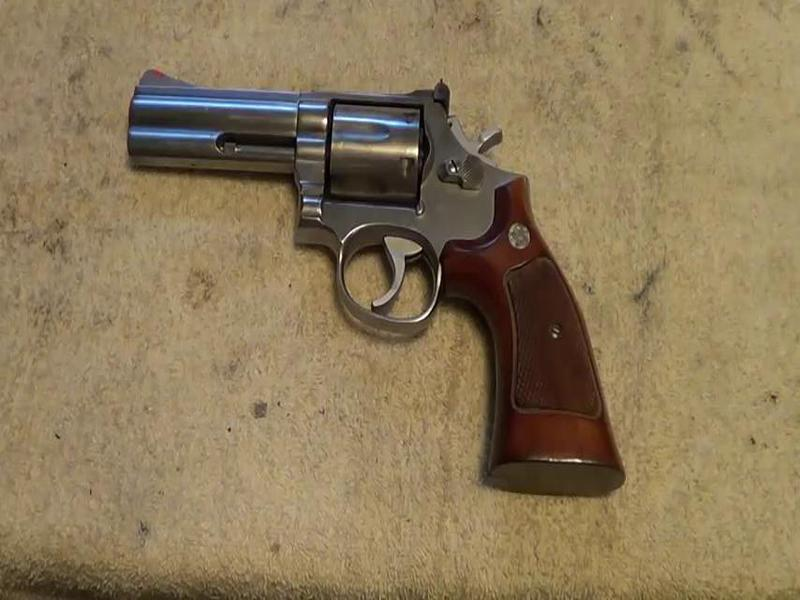Revolver: (116, 61, 648, 491)
